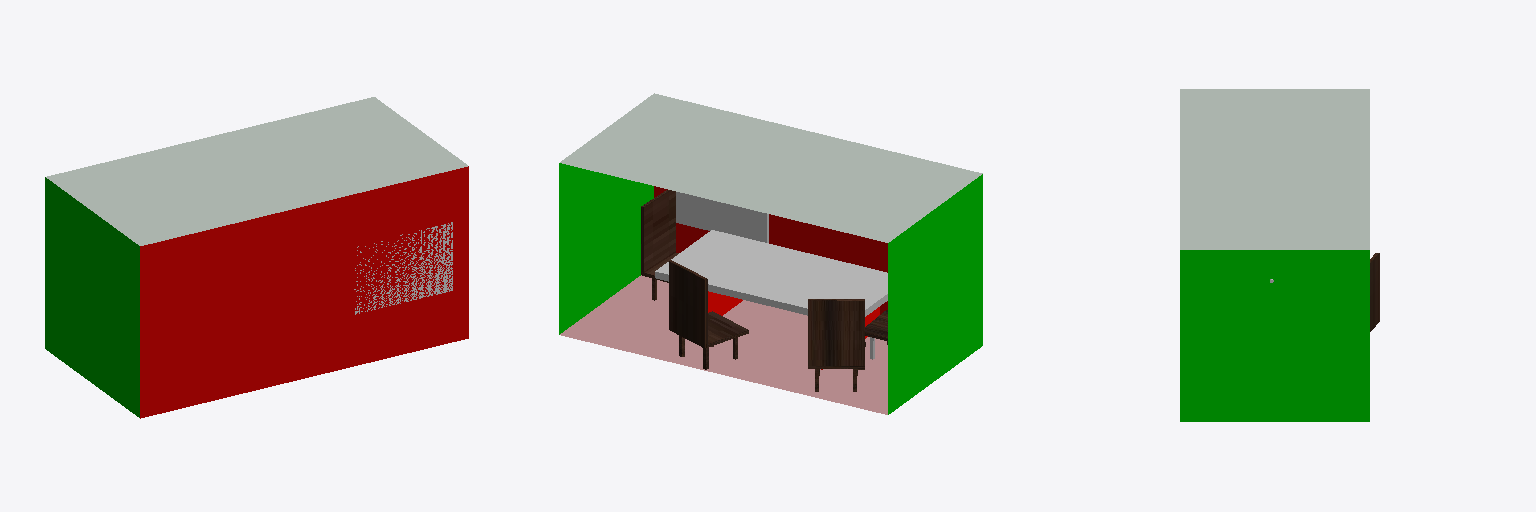
The picture shows the model from 3 angles: view 1: azimuth 30°, elevation 25°; view 2: azimuth 150°, elevation 25°; view 3: azimuth 270°, elevation 25°; orthographic projection.
Parts seen in each view (by area): view 1: Cube.022; view 2: Cube.022; view 3: Cube.022.
Boxes of the visible parts, x1,y1,x2,y2 form: Cube.022: [45, 97, 468, 418]; Cube.022: [559, 93, 982, 414]; Cube.022: [1180, 89, 1379, 421].
Bounding box in the file's own units: 10.06 × 5.01 × 5.24.
Materials: 35 (1 with a texture image).